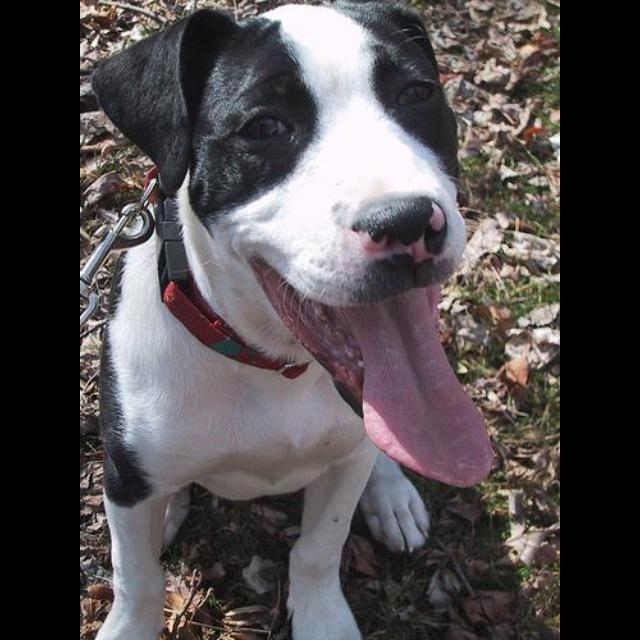amstaff: (87, 1, 474, 639)
